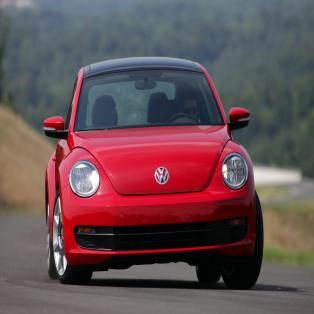Auto: (44, 55, 264, 291)
